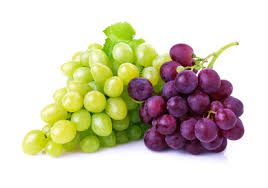Green grapes: (50, 49, 153, 145)
Red Grapes: (131, 60, 232, 153)
